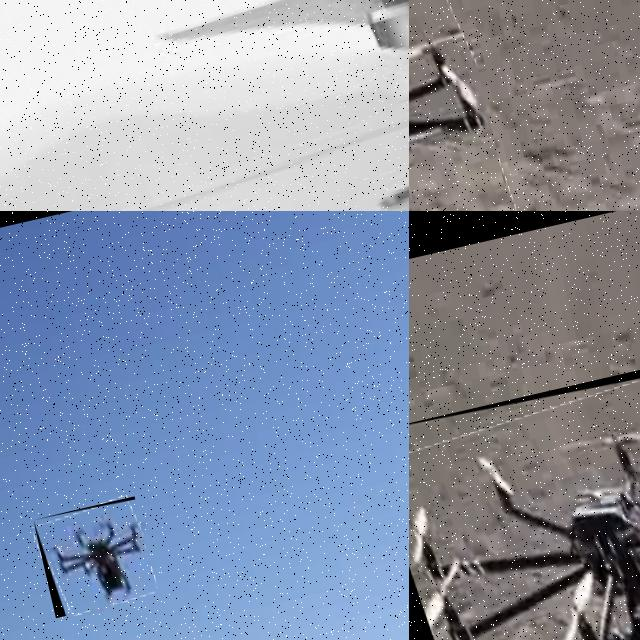0: (409, 336, 640, 640), (409, 0, 525, 211), (33, 496, 157, 618)
drone: (0, 0, 409, 211)
